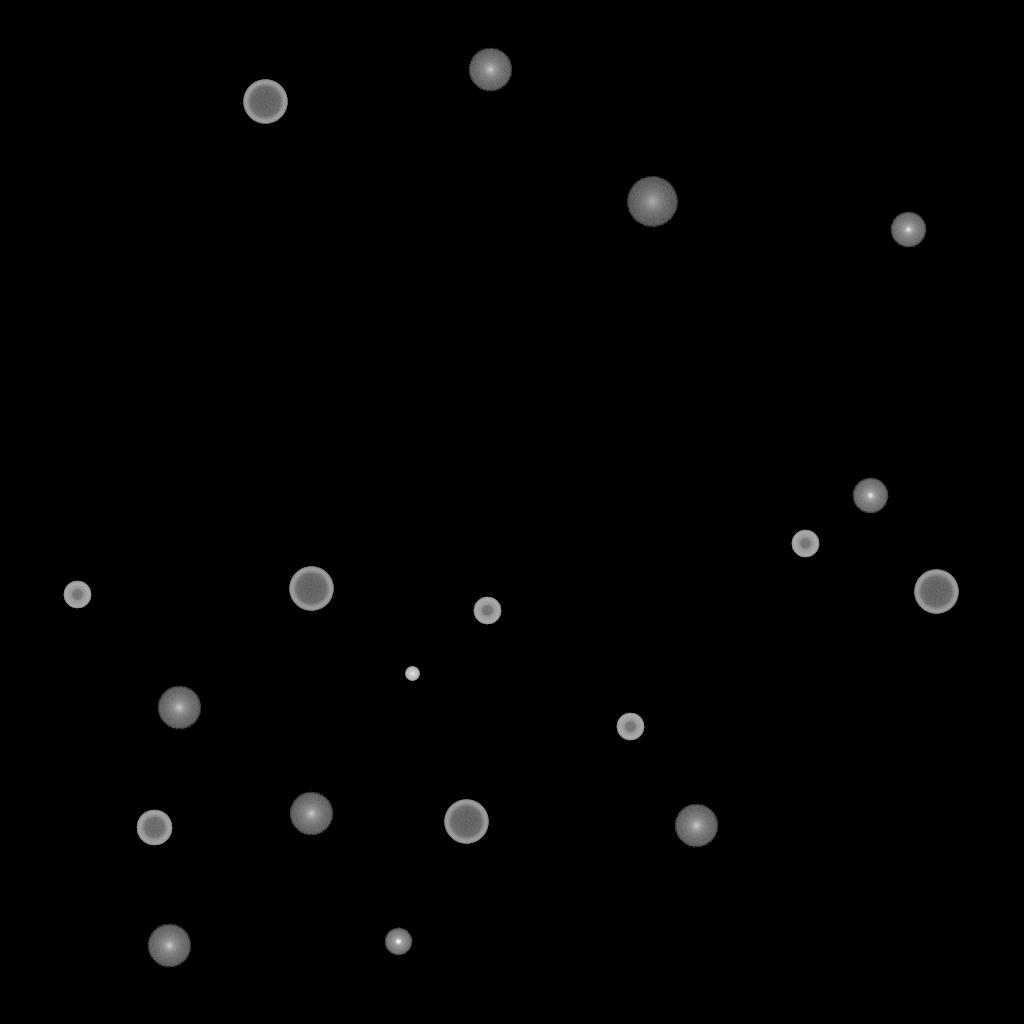depth:-10: (384, 928, 412, 956)
depth:-30: (405, 667, 419, 681)
depth:-50: (473, 597, 501, 625), (616, 713, 644, 741), (791, 530, 819, 558), (63, 581, 91, 609)
depth:-60: (136, 810, 172, 846)
depth:-70: (243, 80, 287, 124), (914, 570, 958, 614), (289, 567, 333, 611), (444, 800, 488, 844)
depth:0: (890, 212, 926, 248), (852, 478, 888, 514)
depth:10: (674, 804, 718, 848), (157, 686, 201, 730), (468, 48, 512, 92), (147, 924, 191, 968), (289, 792, 333, 836)
depth:20: (626, 177, 678, 227)
